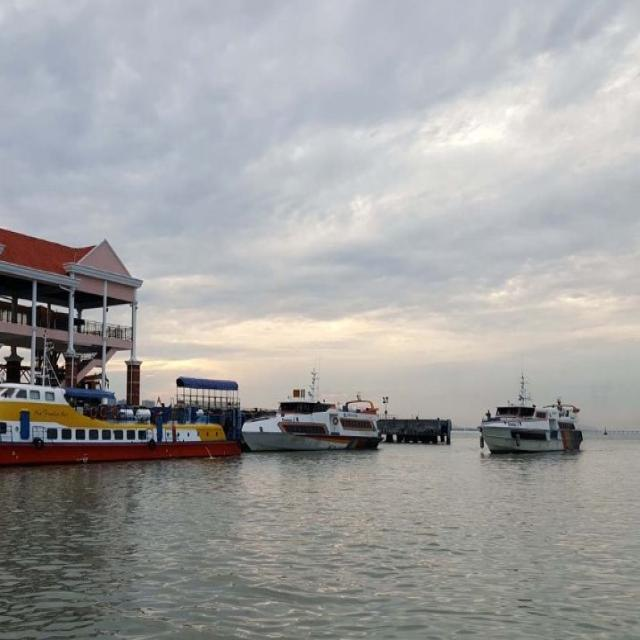houseboat: (249, 376, 380, 453), (484, 372, 574, 455)
